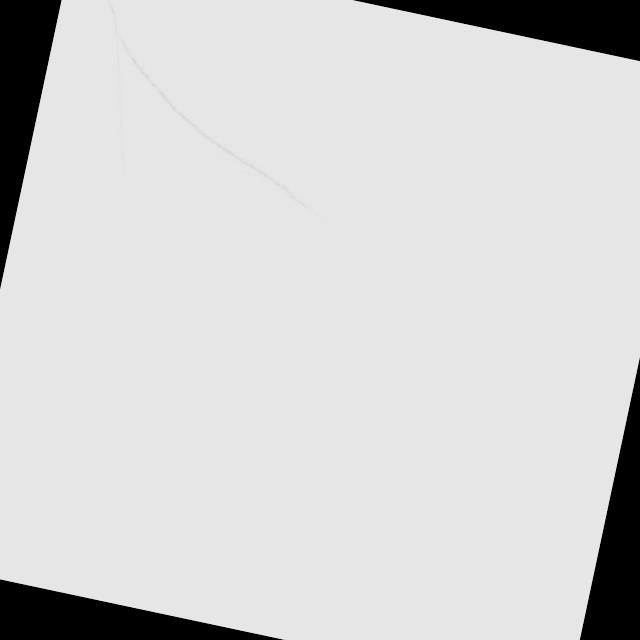crack: (98, 32, 358, 254)
